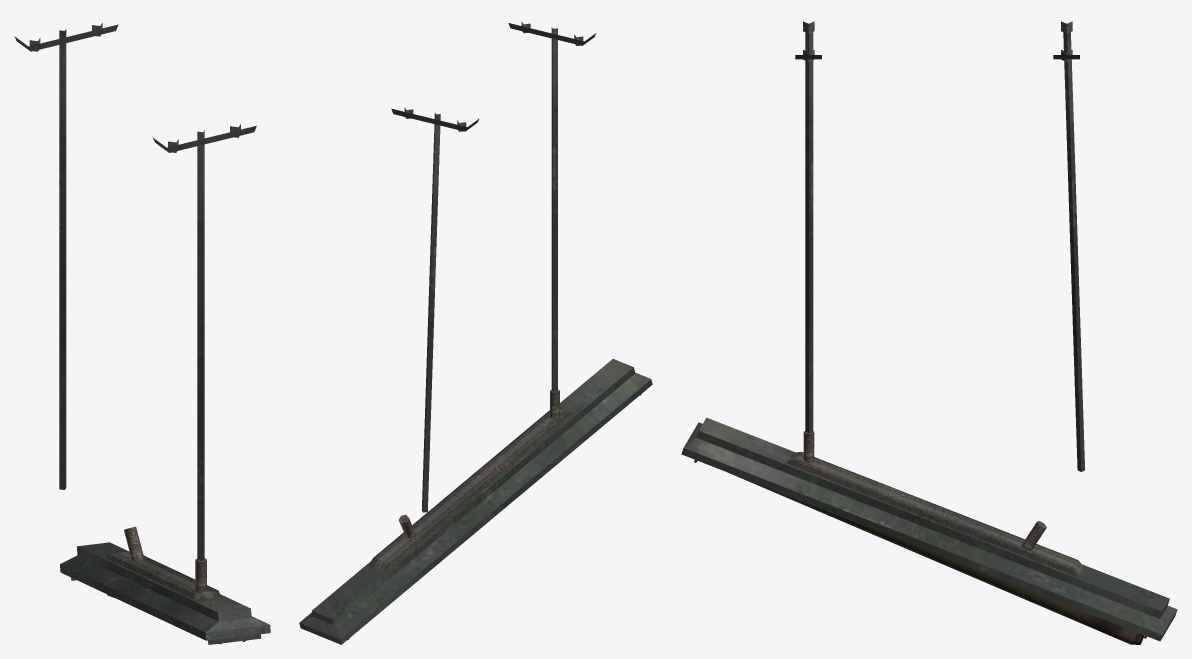
The model's file is prison_flourescentlight001c.glb.
3 views of the same model, side by side, from view 1: azimuth 30°, elevation 25°; view 2: azimuth 150°, elevation 25°; view 3: azimuth 270°, elevation 25° (orthographic). The views are drawn at different scales.
Visible parts, largest first — view 1: 0_prison_objects004; view 2: 0_prison_objects004; view 3: 0_prison_objects004.
Boxes of the visible parts, x1,y1,x2,y2 form: 0_prison_objects004: (14, 23, 270, 644); 0_prison_objects004: (299, 21, 652, 644); 0_prison_objects004: (681, 21, 1177, 644).
Bounding box in the file's own units: 0.588 × 2.06 × 1.62.
1 material, 1 textured.
